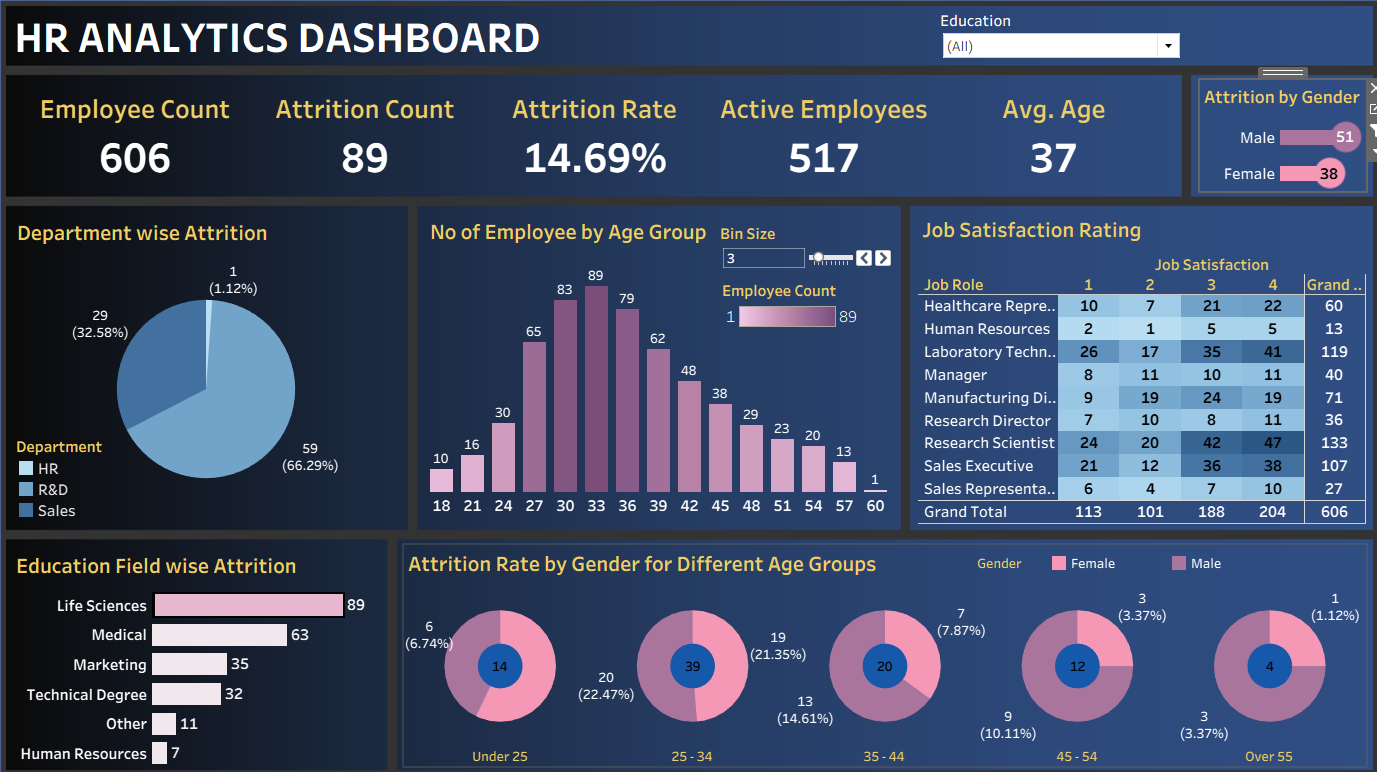

The dashboard page shown, as its layout file describes it:
{"tool":"tableau","page":{"name":"HR ANALYSTICS Dashboard ","canvas":[1650,800],"ordinal":0},"visuals":[{"type":"image","param":"C:/Users/KIIT/Desktop/HR background Final.png","box":[8,8,1634,784]},{"type":"filter","title":"No of Employee by Age Group","param":"[federated.157yz010ojgtra12myxbw157lk8f].[none:Education:nk]","box":[1075,22,243,49]},{"type":"text","box":[146,23,858,49]},{"type":"worksheet","title":"Attrition by Gender","mark":"Automatic","rows":["Gender"],"cols":["Calculation_1859142265046872064","Calculation_1859142265046872064"],"box":[1335,92,166,111]},{"type":"worksheet","title":"KPI","mark":"Automatic","box":[155,97.2,1149,101.3]},{"type":"worksheet","title":"Job Satisfaction Rating","mark":"Square","rows":["Job Role"],"cols":["Job Satisfaction"],"box":[1053,223,448,313]},{"type":"worksheet","title":"No of Employee by Age Group","mark":"Automatic","rows":["Employee Count"],"cols":["Age (bin)"],"box":[561,225,465,304]},{"type":"worksheet","title":"Department wise Attrition","mark":"Pie","box":[148,226,386,307]},{"type":"parameter","param":"[Parameters].[Parameter 1]","box":[855,235,174,54]},{"type":"legend","title":"No of Employee by Age Group","param":"[federated.157yz010ojgtra12myxbw157lk8f].[sum:Employee Count:qk]","box":[857,292,140,59]},{"type":"legend","title":"Department wise Attrition","param":"[federated.157yz010ojgtra12myxbw157lk8f].[none:Department:nk]","box":[151,448,88,85]},{"type":"worksheet","title":"Attrition Rate by Gender for Different Age Groups","mark":"Pie","rows":["Calculation_1859142265086132229","Calculation_1859142265086132229"],"cols":["CF_age band"],"box":[539,557,962,221]},{"type":"worksheet","title":"Education Field wise Attrition","mark":"Automatic","rows":["Education Field"],"cols":["Calculation_1859142265046872064"],"box":[147,559,367,221]},{"type":"legend","title":"Attrition Rate by Gender for Different Age Groups","param":"[federated.157yz010ojgtra12myxbw157lk8f].[none:Gender:nk]","box":[1112,565,390,35]}]}

Visuals, with their boxes on the page's 1650x800 design canvas (x1, y1, x2, y2). These are canvas units, not pixel positions in the 1377x772 screenshot, which may show the page scaled, cropped or inside an application window:
image: [left=8, top=8, right=1642, bottom=792]
"No of Employee by Age Group" filter: [left=1075, top=22, right=1318, bottom=71]
text: [left=146, top=23, right=1004, bottom=72]
"Attrition by Gender" worksheet: [left=1335, top=92, right=1501, bottom=203]
"KPI" worksheet: [left=155, top=97, right=1304, bottom=198]
"Job Satisfaction Rating" worksheet (Square marks): [left=1053, top=223, right=1501, bottom=536]
"No of Employee by Age Group" worksheet: [left=561, top=225, right=1026, bottom=529]
"Department wise Attrition" worksheet (Pie marks): [left=148, top=226, right=534, bottom=533]
parameter: [left=855, top=235, right=1029, bottom=289]
"No of Employee by Age Group" legend: [left=857, top=292, right=997, bottom=351]
"Department wise Attrition" legend: [left=151, top=448, right=239, bottom=533]
"Attrition Rate by Gender for Different Age Groups" worksheet (Pie marks): [left=539, top=557, right=1501, bottom=778]
"Education Field wise Attrition" worksheet: [left=147, top=559, right=514, bottom=780]
"Attrition Rate by Gender for Different Age Groups" legend: [left=1112, top=565, right=1502, bottom=600]
